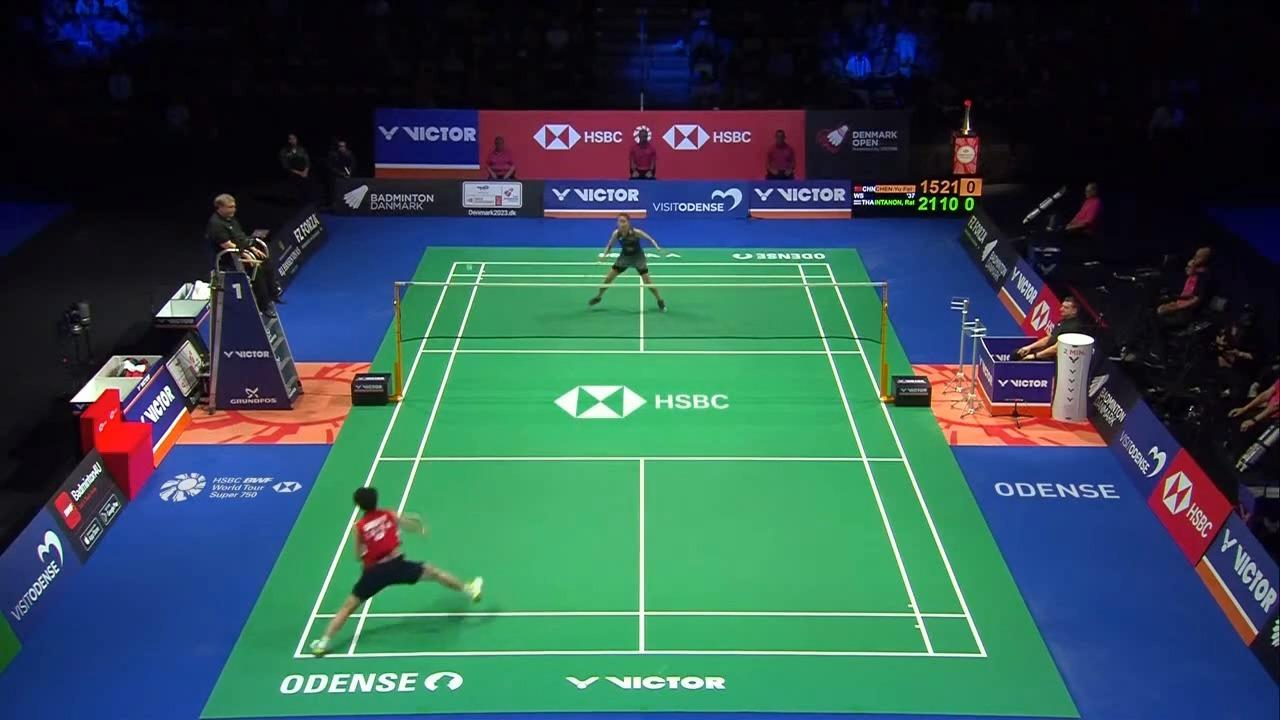shuttle: (467, 263, 474, 271)
